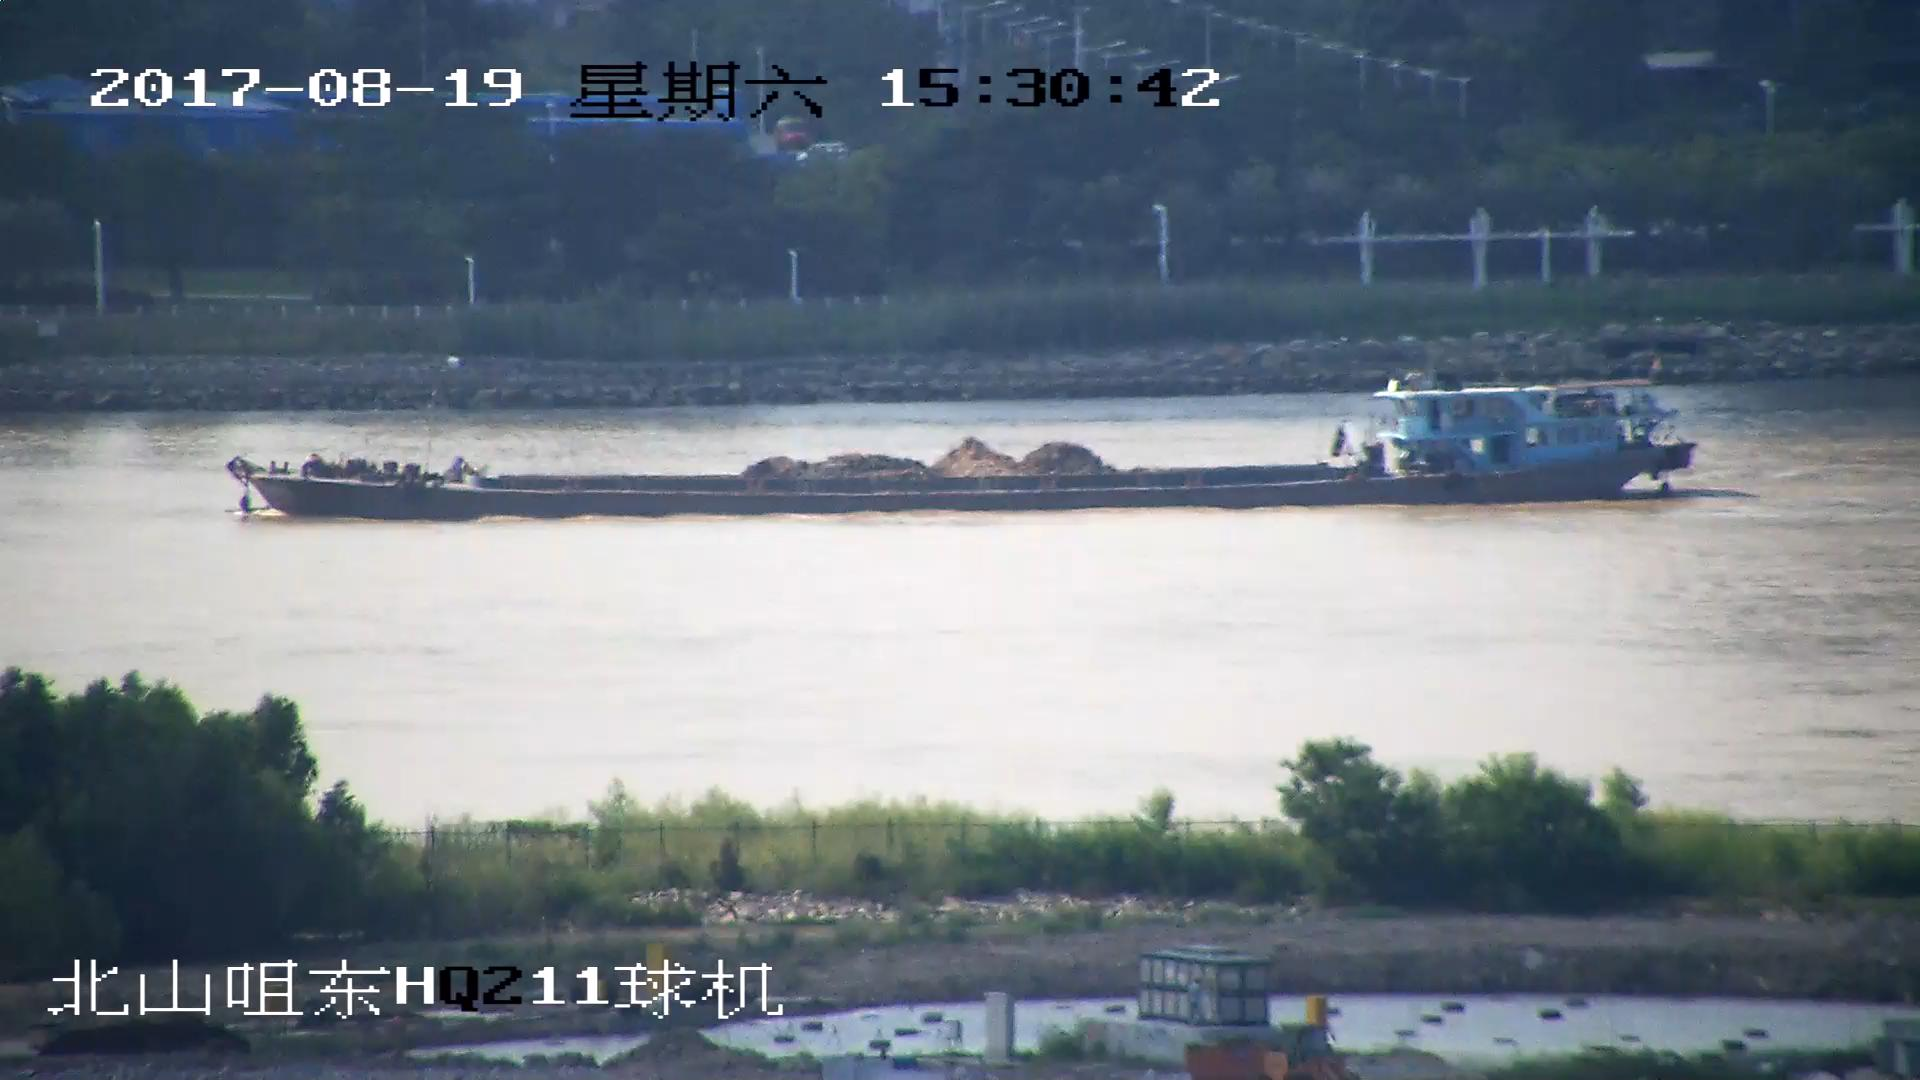ore carrier: (230, 368, 1694, 520)
